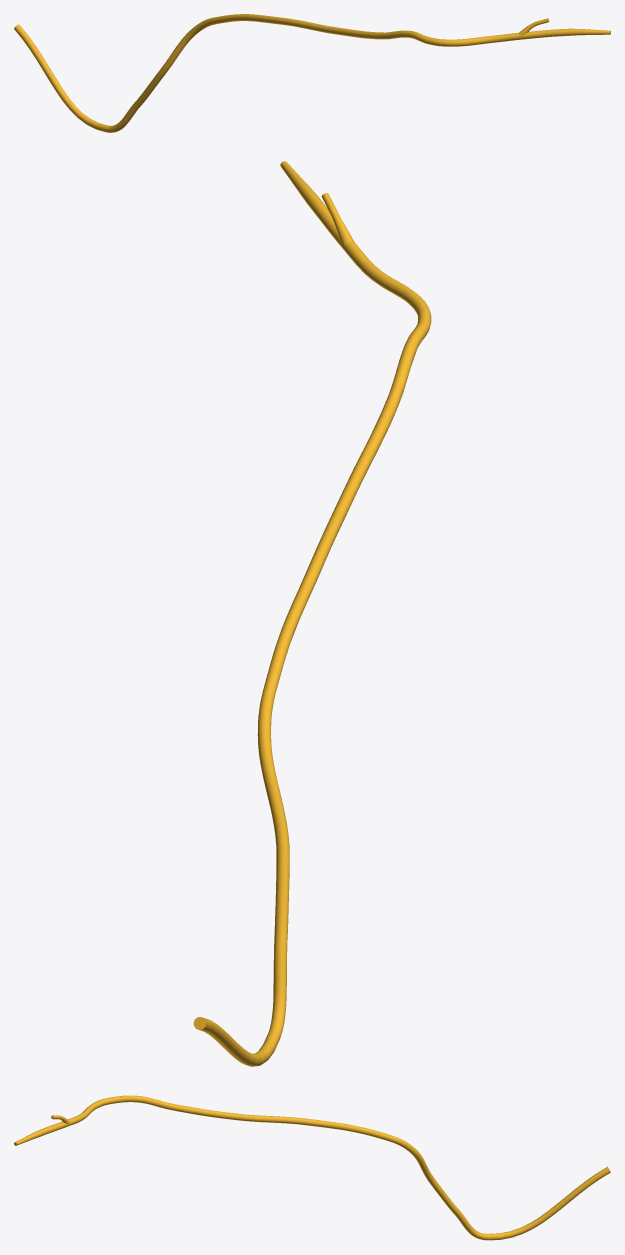
File: nervoso-abducens-nerve-vi-l.glb
3 renders of one model, top to bottom at view 1: azimuth 30°, elevation 25°; view 2: azimuth 150°, elevation 25°; view 3: azimuth 270°, elevation 25°, orthographic. The views are drawn at different scales.
Parts seen in each view (by area): view 1: Abducens nerve (VI).l; view 2: Abducens nerve (VI).l; view 3: Abducens nerve (VI).l.
Boxes of the visible parts, bbox=[...] form: Abducens nerve (VI).l: bbox=[14, 14, 610, 132]; Abducens nerve (VI).l: bbox=[193, 161, 431, 1066]; Abducens nerve (VI).l: bbox=[14, 1095, 610, 1240].
Bounding box in the file's own units: 0.0314 × 0.0254 × 0.0627.
